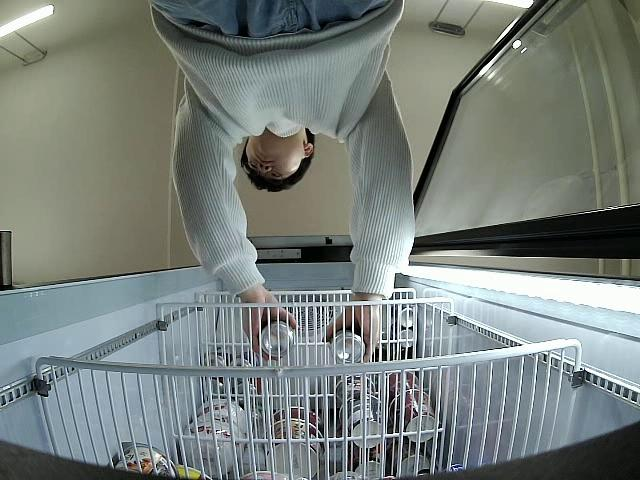00_hand: (241, 294, 300, 360), (325, 305, 380, 363)
12_chilsungCider: (258, 317, 295, 359), (329, 331, 366, 363)
